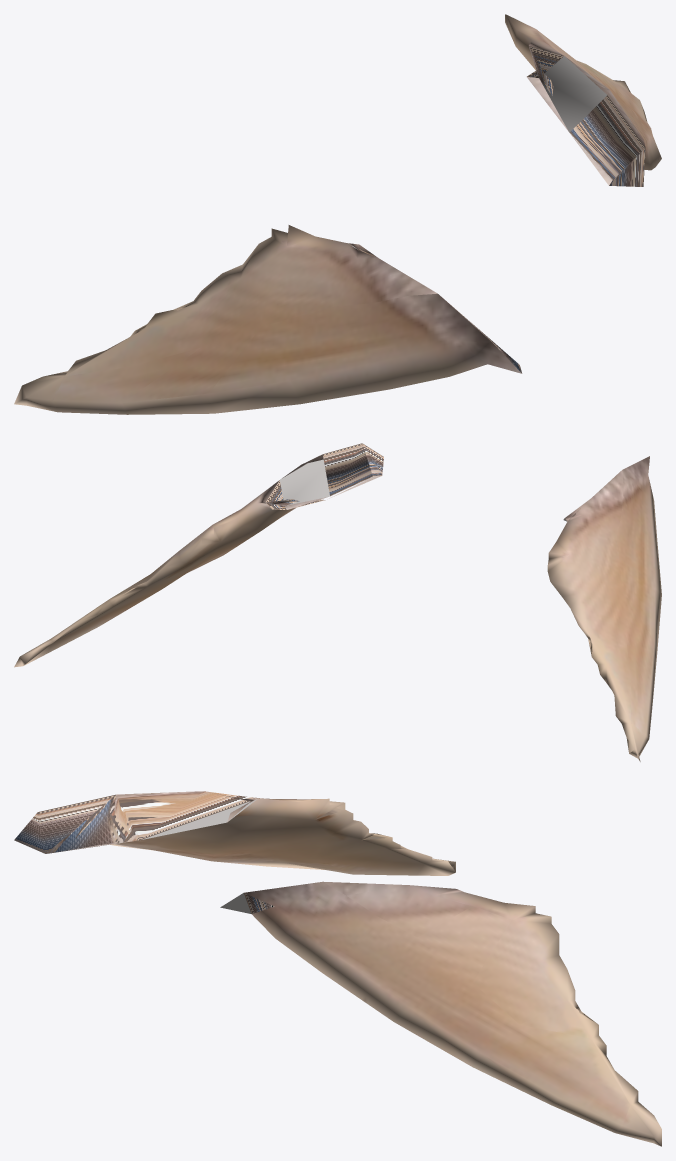
File: PelvicFins.glb
3 renders of one model, top to bottom at view 1: azimuth 30°, elevation 25°; view 2: azimuth 150°, elevation 25°; view 3: azimuth 270°, elevation 25°, orthographic. The views are drawn at different scales.
Parts seen in each view (by area): view 1: world; view 2: world; view 3: world.
Boxes of the visible parts, x1=… form: world: x1=14, y1=14, x2=661, y2=414; world: x1=14, y1=443, x2=661, y2=761; world: x1=14, y1=791, x2=661, y2=1146.
Bounding box in the file's own units: 0.18 × 0.056 × 0.1604.
Materials: 1 (1 with a texture image).
